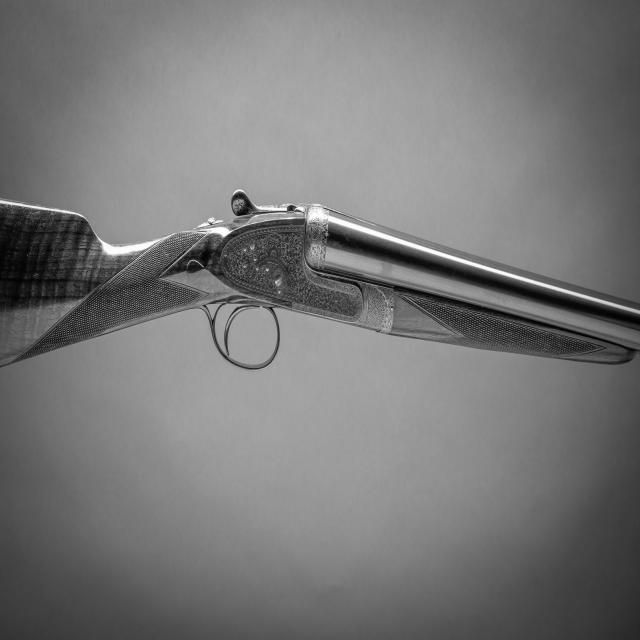Short-Gun: (4, 172, 640, 488)
